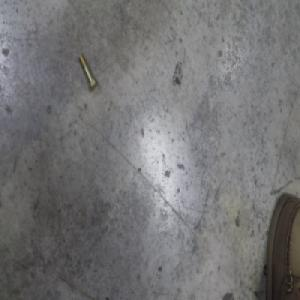Bolt: (78, 51, 98, 92)
